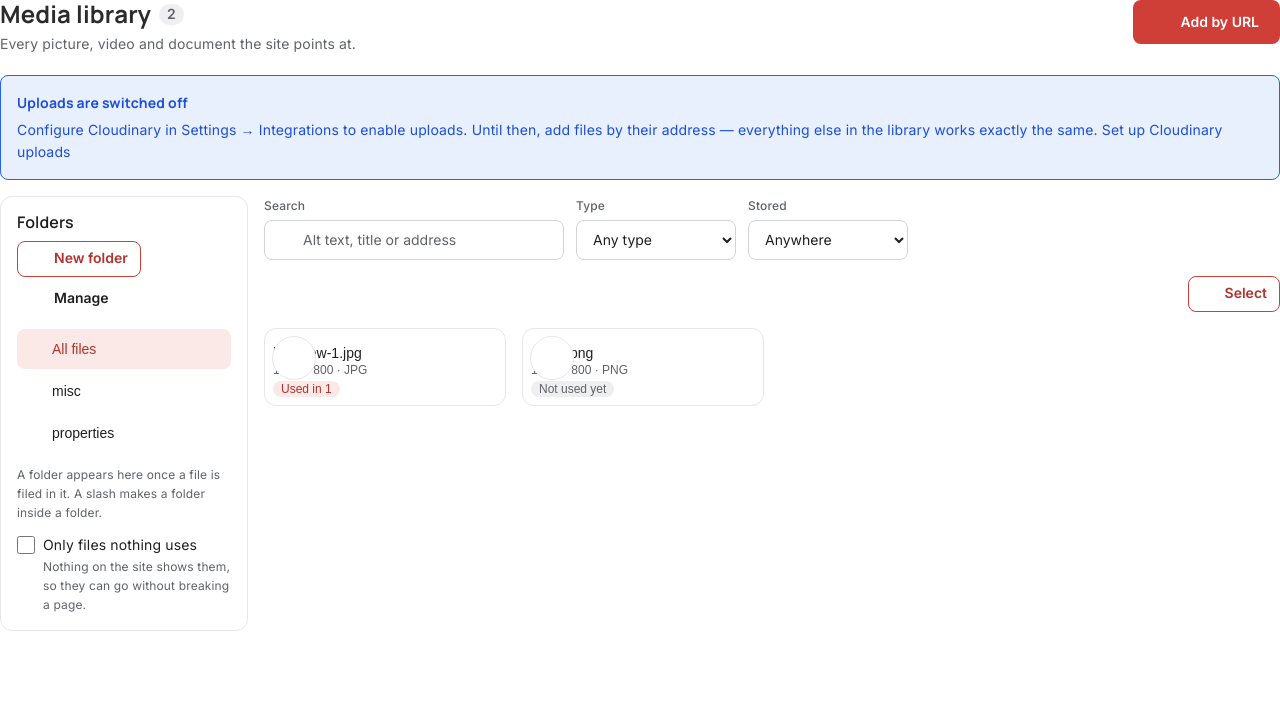
refuses an address that is not one, and a record with no alt text
expect the text "lakeview-1.jpg" is shown: met, box top-left (273, 344), bottom-right (367, 360)
Click the button "Add by URL" at [1207, 22], box top-left (1133, 0), bottom-right (1279, 44)
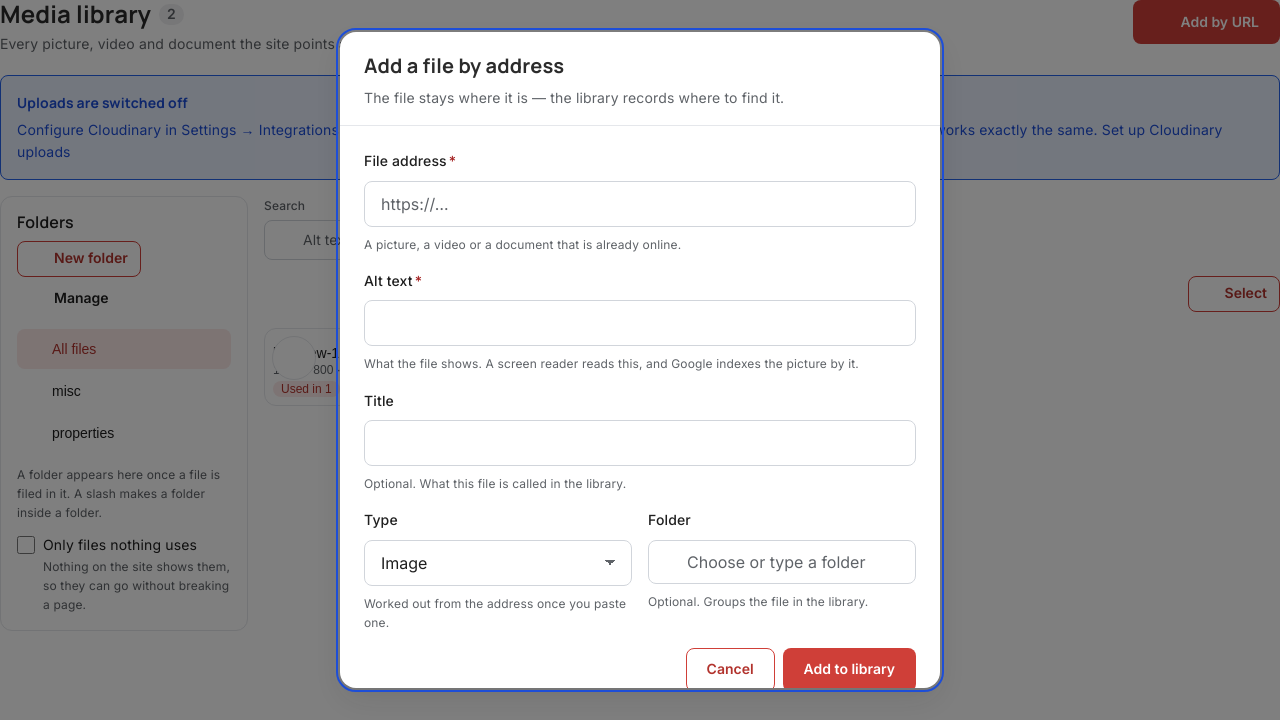
Type "not-a-url" into the field labelled "File address*" at [640, 204], box top-left (364, 181), bottom-right (916, 227)
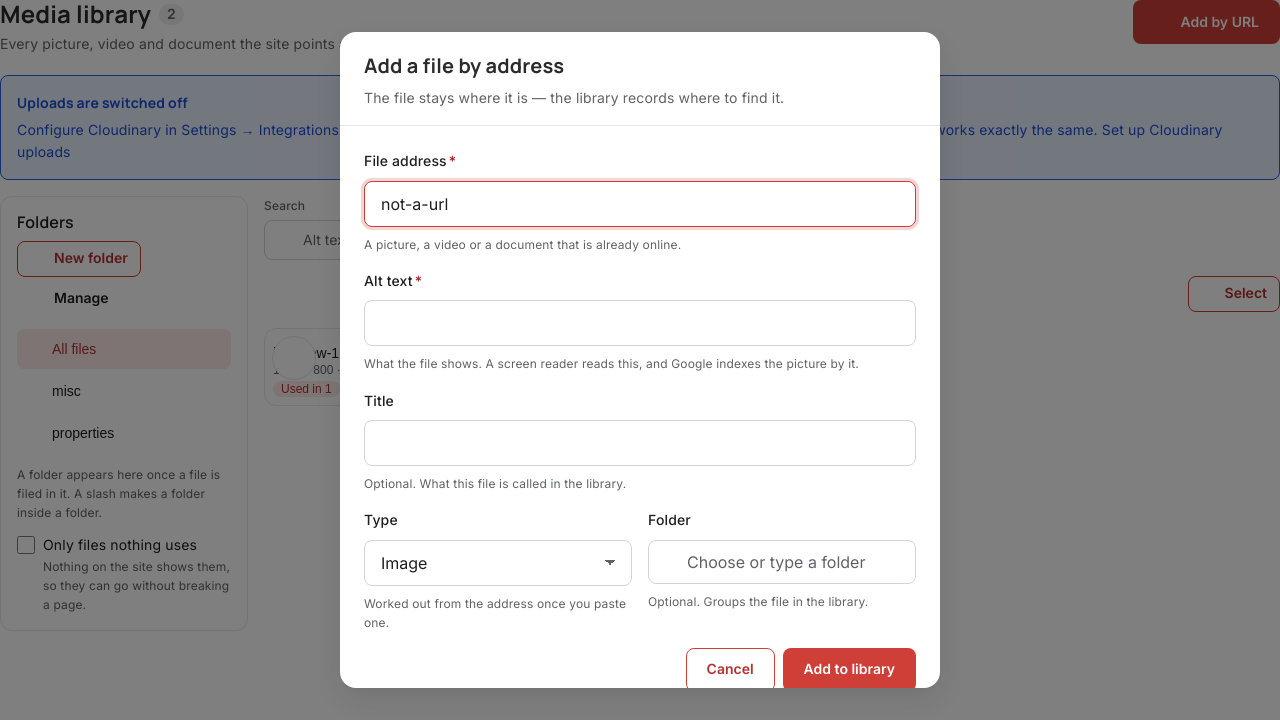
Click the button "Add to library" at [849, 670], box top-left (783, 648), bottom-right (916, 692)
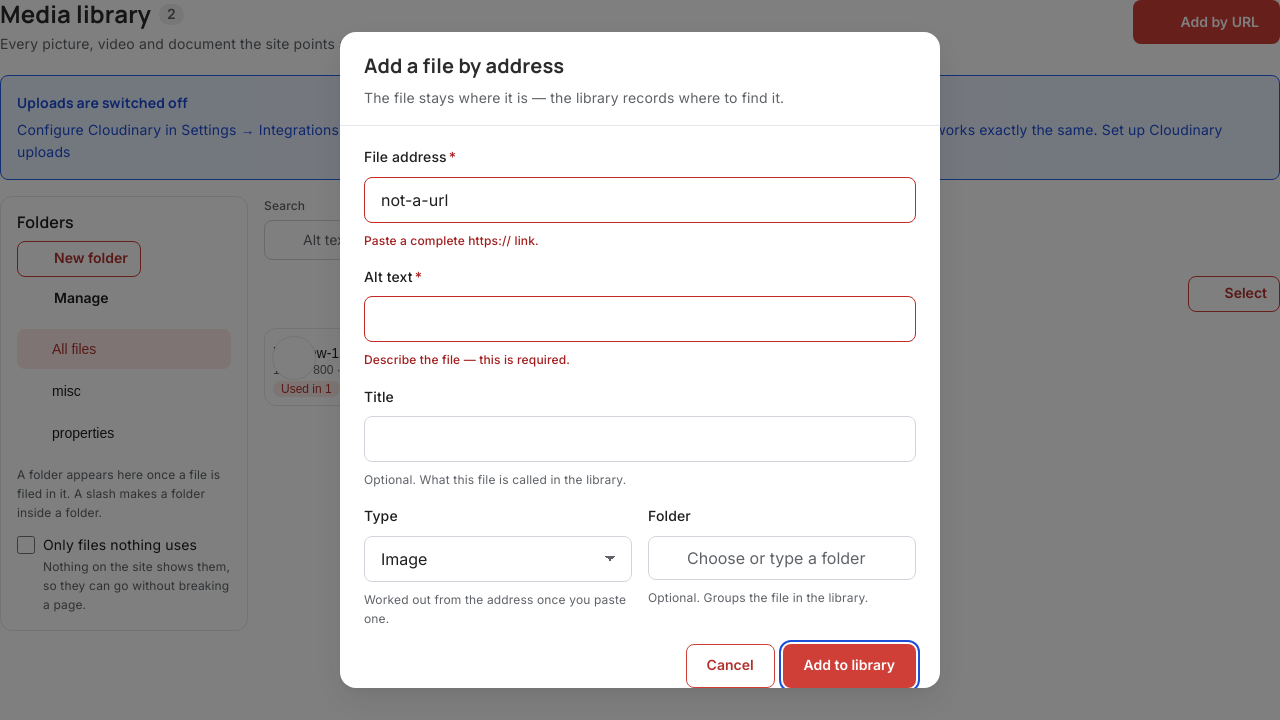
expect the text "Paste a complete https:// link." is shown: met, box top-left (364, 233), bottom-right (539, 248)
expect the text "Describe the file — this is required." is shown: met, box top-left (364, 352), bottom-right (570, 367)
